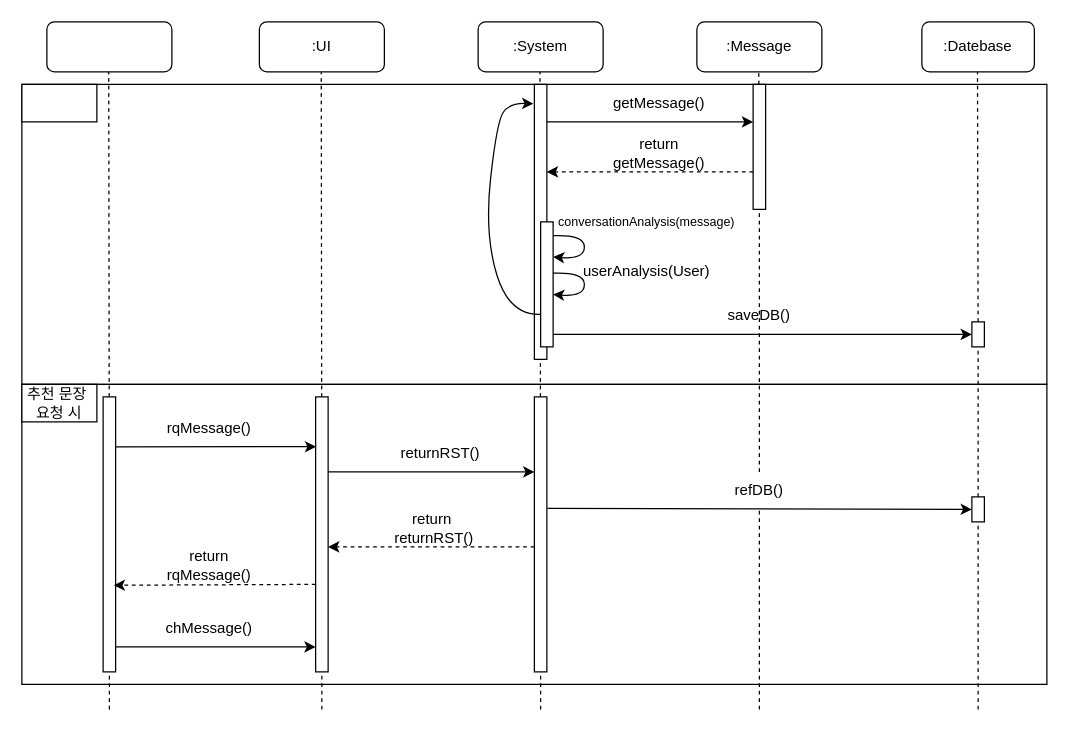
Image size: 1069x733. Some labels were removed from this diagram. The shapes that lost their labels are listed below. From the top down, each one's centre as x and y in pixels, then its label:
pixel 109 46: <Actor> User
pixel 59 102: 평상 시
